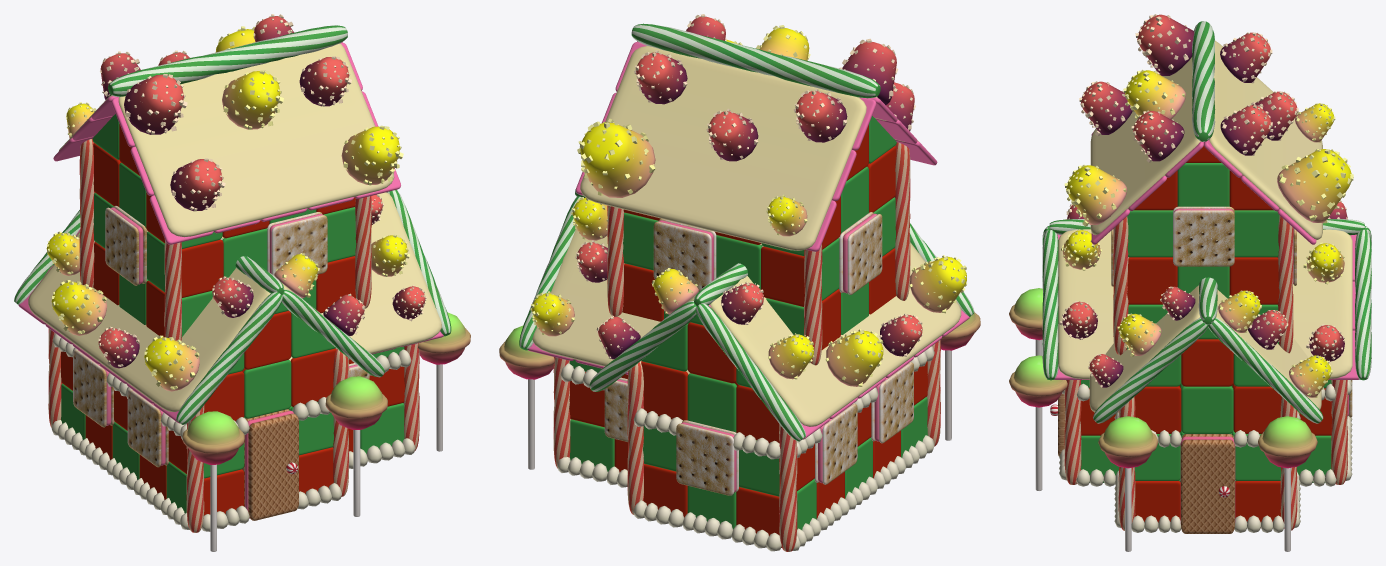
The model's file is cw_house_21.fbx.
The picture shows the model from 3 angles, left to right: view 1: azimuth 30°, elevation 25°; view 2: azimuth 150°, elevation 25°; view 3: azimuth 270°, elevation 25°; orthographic projection. The views are drawn at different scales.
Visible parts, largest first — view 1: cw_house_21; view 2: cw_house_21; view 3: cw_house_21.
Boxes of the visible parts, x1,y1,x2,y2 form: cw_house_21: (14,14,470,551); cw_house_21: (499,14,980,551); cw_house_21: (1009,14,1371,551).
Size of the model in its own units: 799 by 941 by 751.
